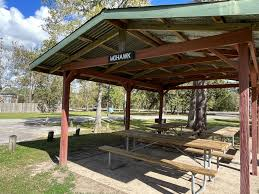obstacle: (100, 129, 232, 191)
